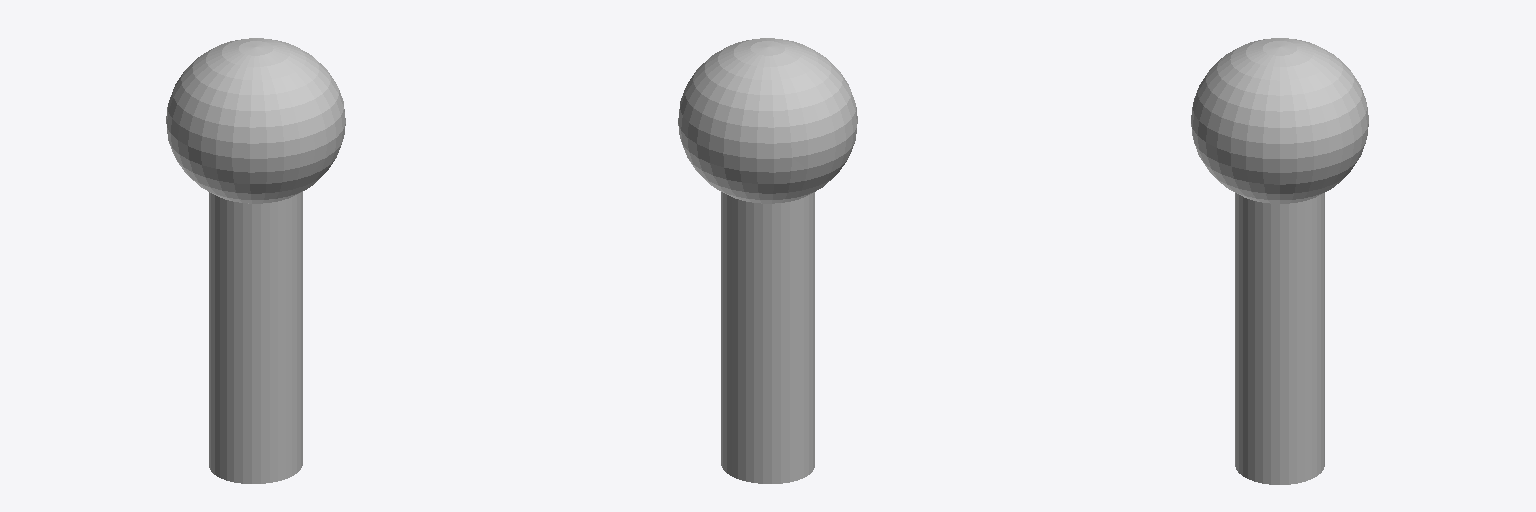
The model's file is rotateArrow.obj.
3 views of the same model, side by side, from view 1: azimuth 30°, elevation 25°; view 2: azimuth 150°, elevation 25°; view 3: azimuth 270°, elevation 25° (orthographic).
Parts seen in each view (by area): view 1: Sphere; view 2: Sphere; view 3: Sphere.
Boxes of the visible parts, x1,y1,x2,y2 form: Sphere: [166, 38, 345, 483]; Sphere: [678, 38, 857, 483]; Sphere: [1191, 38, 1368, 484].
Size of the model in its own units: 1.23 by 3.13 by 1.21.